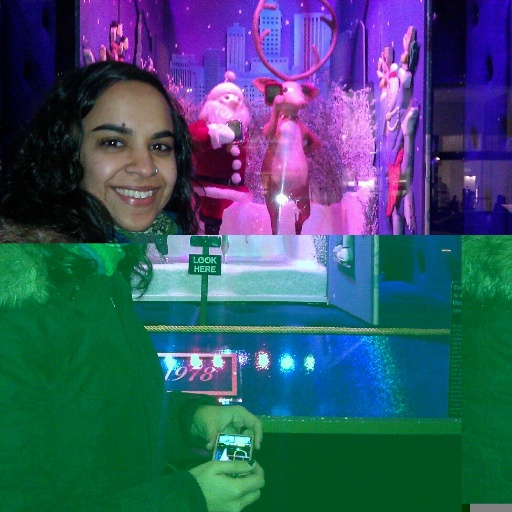hand: (188, 458, 263, 510), (195, 402, 263, 453)
